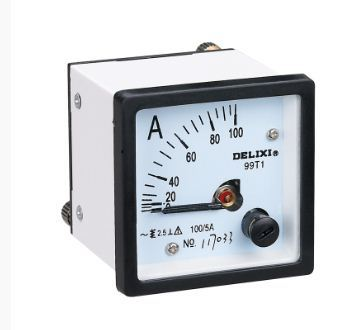pointer: (131, 93, 303, 282)
